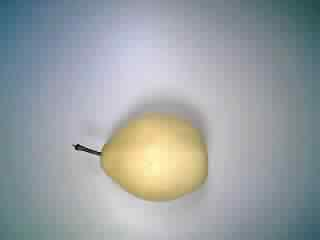pear: (65, 103, 214, 208)
